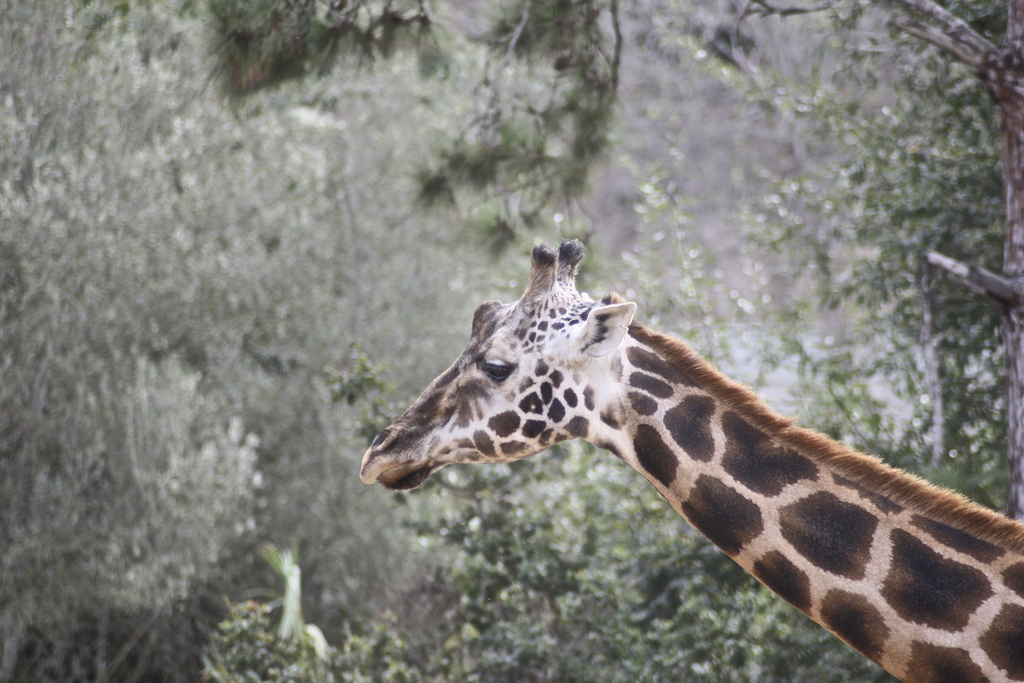giraffe: (335, 240, 1014, 674)
